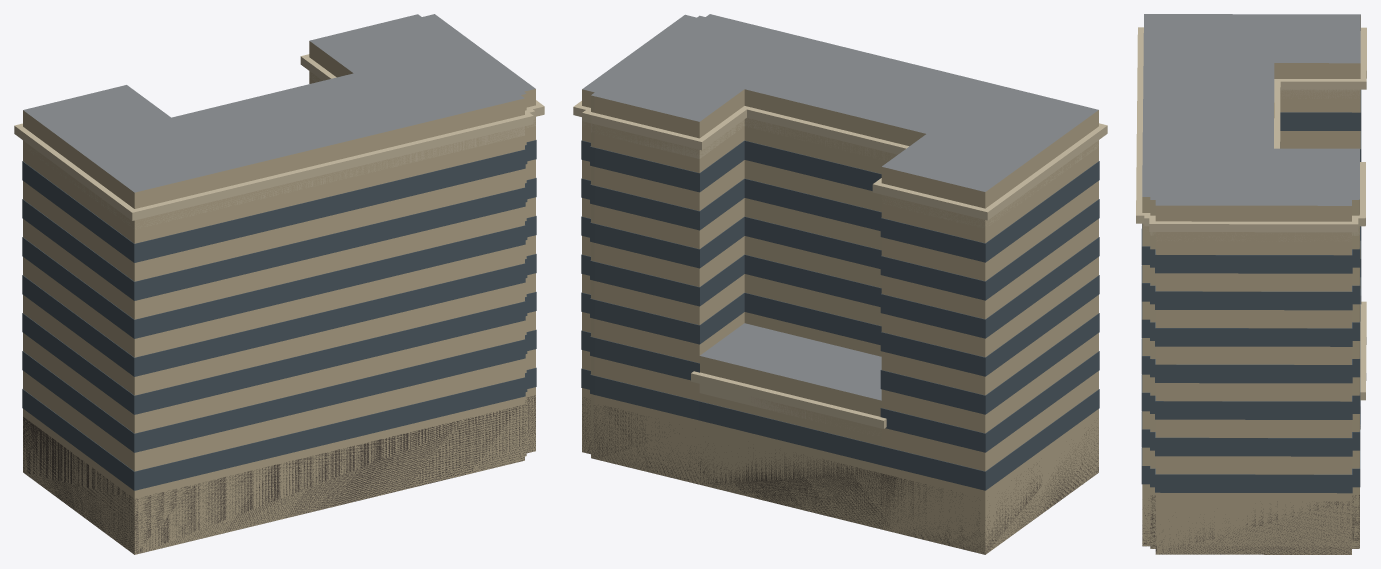
File: clift_building.glb
3 renders of one model, left to right at view 1: azimuth 30°, elevation 25°; view 2: azimuth 150°, elevation 25°; view 3: azimuth 270°, elevation 25°, orthographic. The views are drawn at different scales.
Visible parts, largest first — view 1: Clift_Building; view 2: Clift_Building; view 3: Clift_Building.
Part boxes in pixels (box(x1,y1,x2,y2)): Clift_Building: box(14, 14, 544, 554); Clift_Building: box(573, 14, 1107, 554); Clift_Building: box(1136, 14, 1366, 554).
Size of the model in its own units: 53.16 by 43.9 by 26.32.
